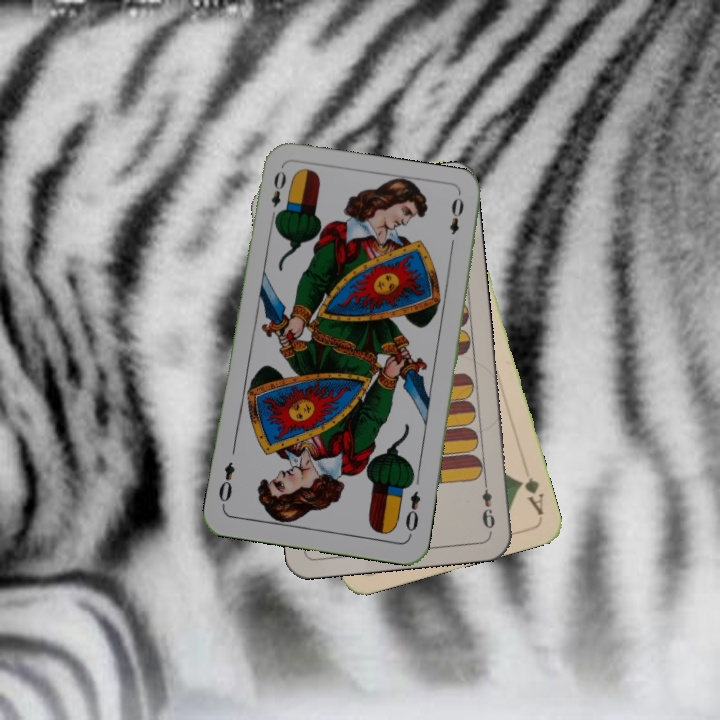E9: (478, 475, 498, 534)
EO: (267, 167, 289, 224), (401, 487, 424, 539)
GA: (514, 473, 546, 518)
